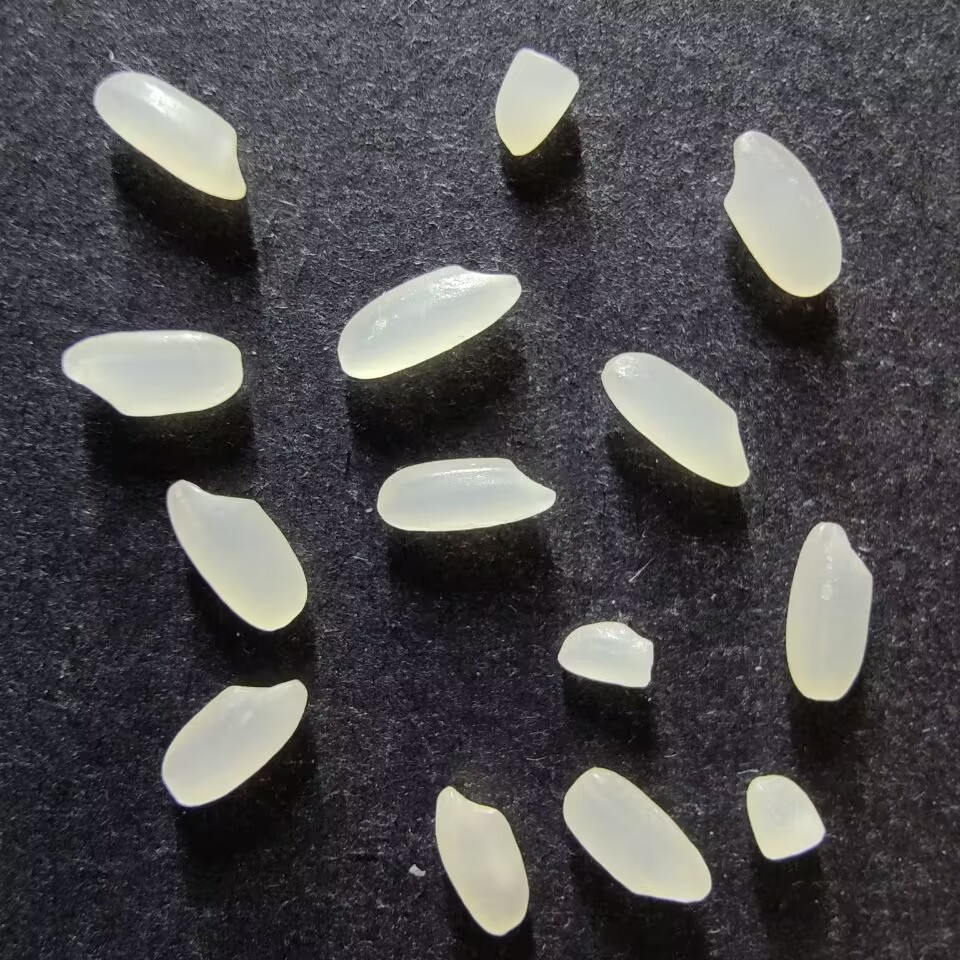broken: (492, 45, 582, 157), (745, 773, 827, 862), (558, 619, 656, 688)
rice: (164, 477, 311, 633), (335, 263, 522, 380), (560, 764, 715, 905), (598, 350, 753, 488), (721, 128, 844, 299), (91, 70, 249, 201), (158, 677, 310, 809), (784, 520, 876, 702), (60, 328, 245, 417), (434, 784, 532, 939), (374, 455, 558, 532)
